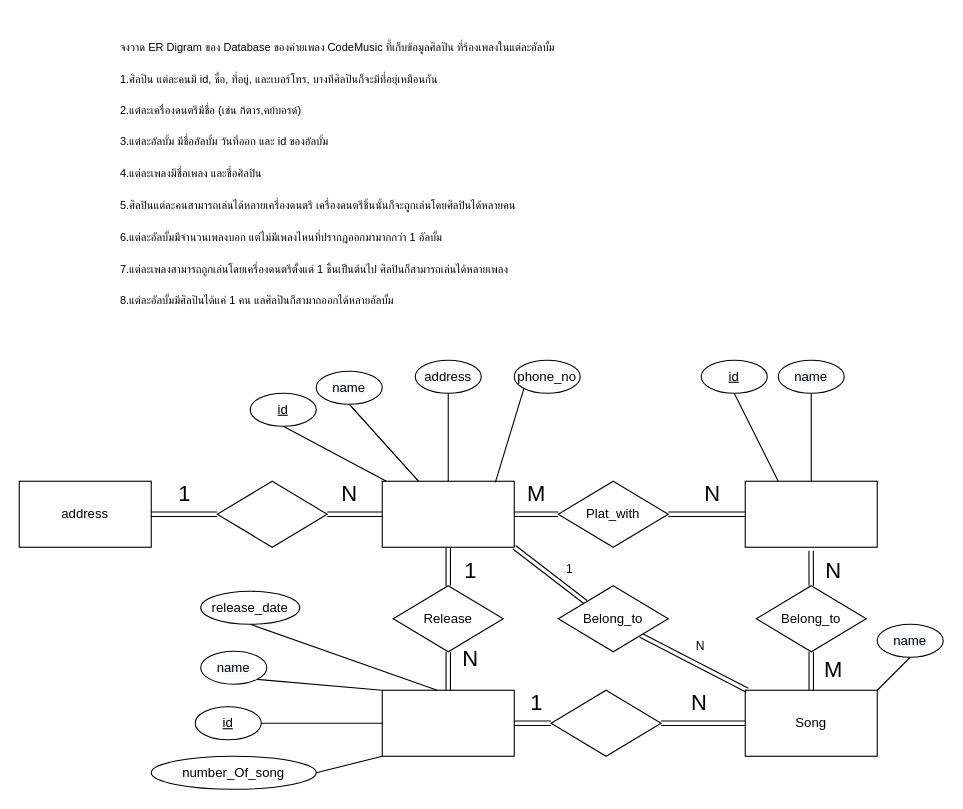
Image size: 963x809. Some labels were removed from this diagram. The shapes that lost their labels are listed below. From the top down, each one's centre as x and y in pixels, then its label:
At [271,513]: "Live".
At [447,513]: "Artist".
At [810,513]: "Instrument".
At [447,722]: "Album".
At [605,722]: "Have".
